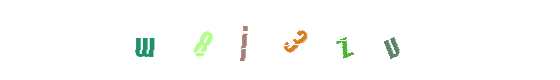3: (240, 0, 320, 80)
8: (167, 0, 247, 80)
J: (234, 0, 314, 80)
V: (316, 0, 396, 80)
W: (104, 0, 184, 80)
Z: (256, 0, 336, 80)
